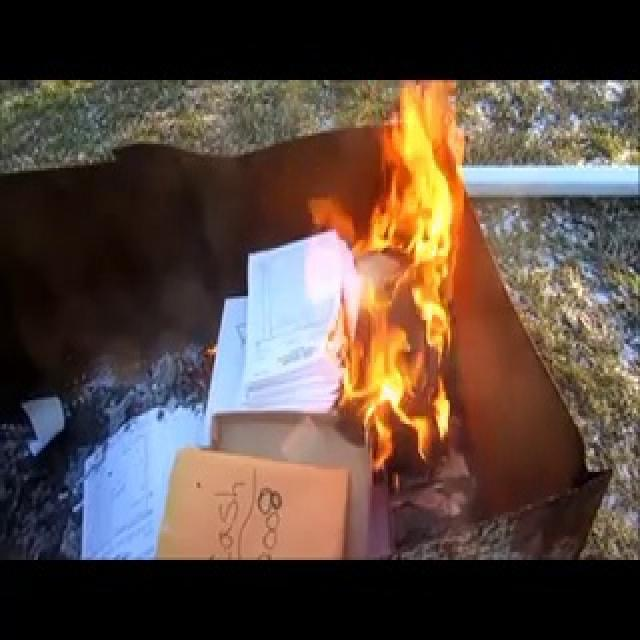fire: (291, 77, 463, 456)
